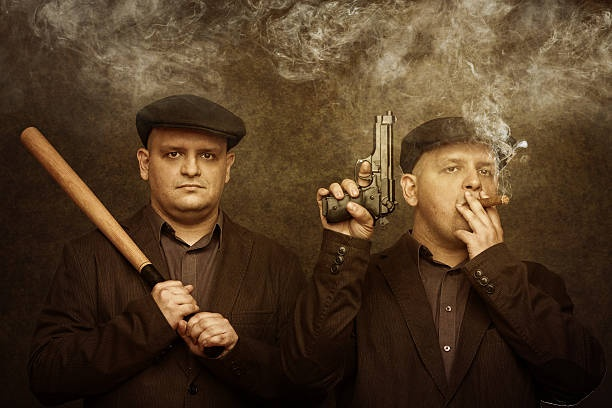bita: (19, 125, 211, 348)
